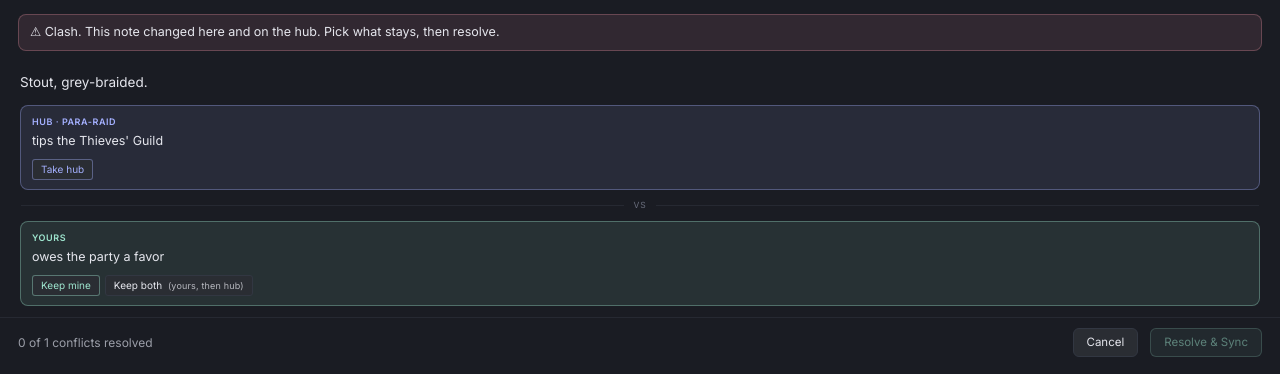
Test case: Resolve & Sync is disabled until every conflict is chosen
Expected: the button "Resolve & Sync" is disabled, [1150, 328, 1262, 357]
Click the button "Keep mine" at (66, 285), box [32, 275, 100, 296]
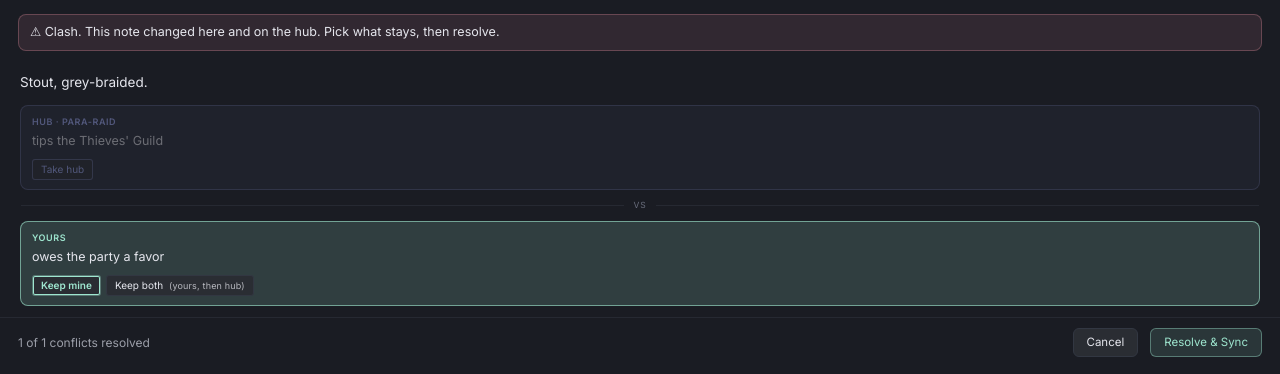
Now the button "Resolve & Sync" is enabled, box [1150, 328, 1262, 357]
